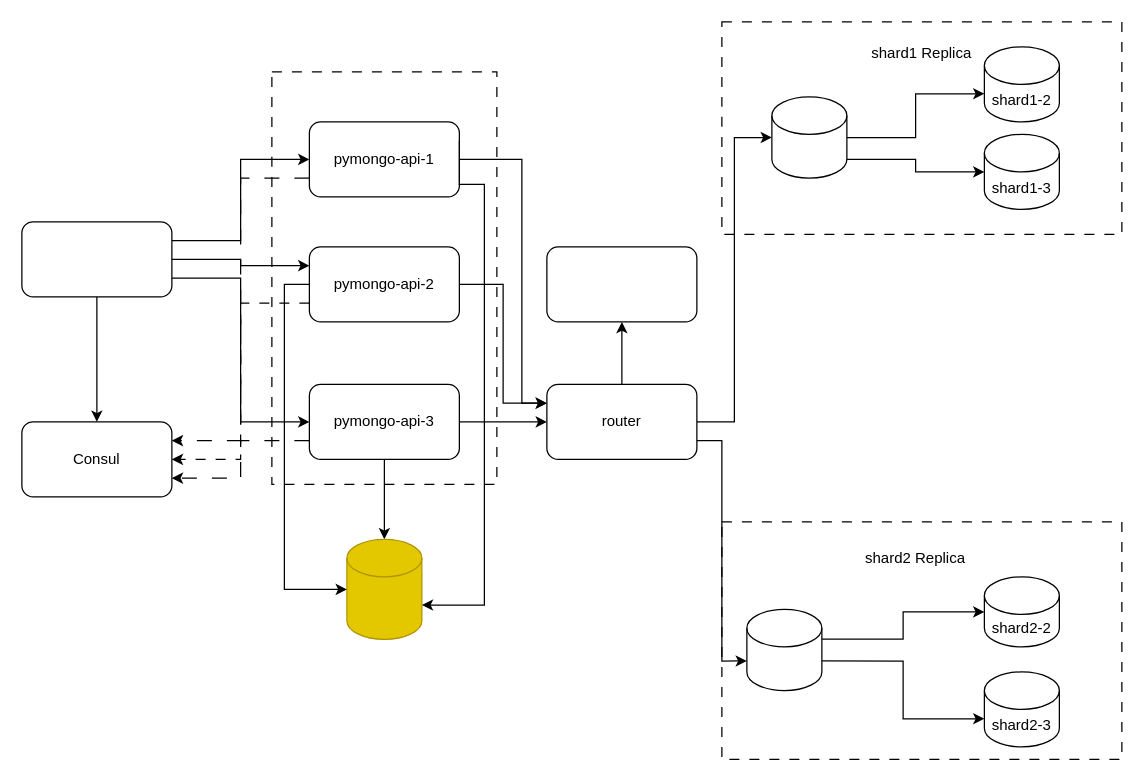
Image size: 1144x781. Some labels were removed from this diagram. Here are the shapes that lost their labels. From the top down, the box of each, then its label:
(771, 96, 847, 178): shard1-1
(21, 221, 172, 297): Api Gateway
(546, 246, 697, 322): configSrv
(346, 538, 422, 639): redis
(746, 608, 822, 691): shard2-1
